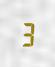three: (19, 19, 33, 47)
